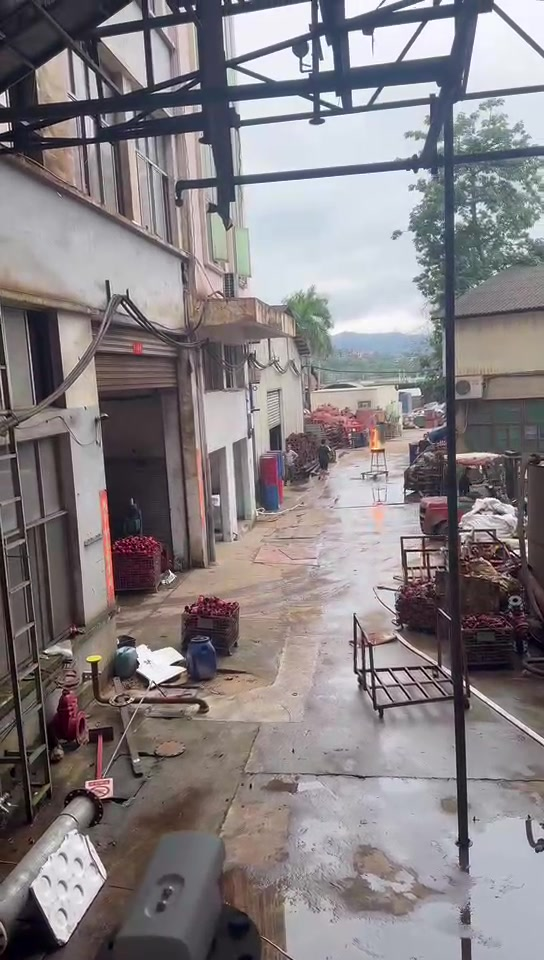fire: (368, 427, 383, 449)
